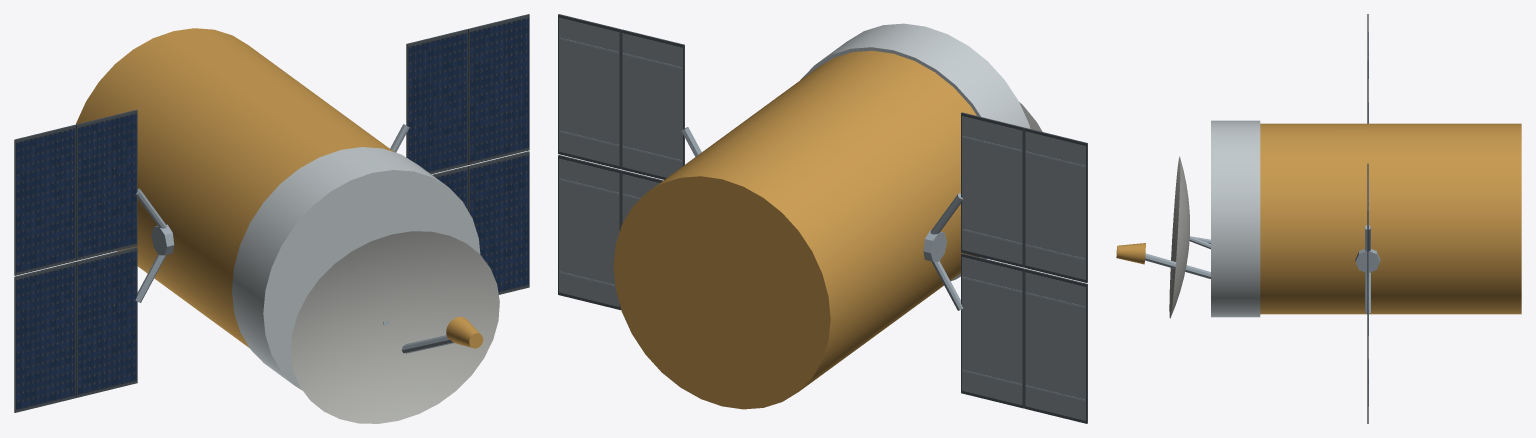
Rendered from ref-gals-22963.glb.
The picture shows the model from 3 angles, left to right: view 1: azimuth 30°, elevation 25°; view 2: azimuth 150°, elevation 25°; view 3: azimuth 270°, elevation 25°; orthographic projection. The views are drawn at different scales.
Visible parts, largest first — view 1: Solar cell panel (×8), Service barrel, Deck-mounted reflector, Equipment flange, Solar panel frame (×7), Feed horn, Array drive, Offset feed boom; view 2: Service barrel, Rear array substrate (×8), Equipment flange, Solar panel frame (×7), Array drive; view 3: Service barrel, Equipment flange, Deck-mounted reflector, Feed horn, Array drive, Offset feed boom.
Part boxes in pixels (x1,y1,x2,y2): Solar cell panel (×8): (16,17,528,409); Service barrel: (76,28,394,347); Deck-mounted reflector: (290,231,499,423); Equipment flange: (232,147,480,390); Solar panel frame (×7): (14,14,529,412); Feed horn: (446,316,483,348); Array drive: (151,224,174,255); Offset feed boom: (401,335,453,353); Service barrel: (613,50,978,409); Rear array substrate (×8): (559,17,1085,420); Equipment flange: (800,23,1030,280); Solar panel frame (×7): (558,14,1087,423); Array drive: (923,230,946,261); Service barrel: (1260,123,1521,314); Equipment flange: (1211,120,1260,317); Deck-mounted reflector: (1169,156,1189,318); Feed horn: (1116,243,1145,264); Array drive: (1355,249,1380,272); Offset feed boom: (1145,253,1210,278).
Size of the model in its own units: 9.99 by 5.06 by 8.7.
Materials: 7 (1 with a texture image).
